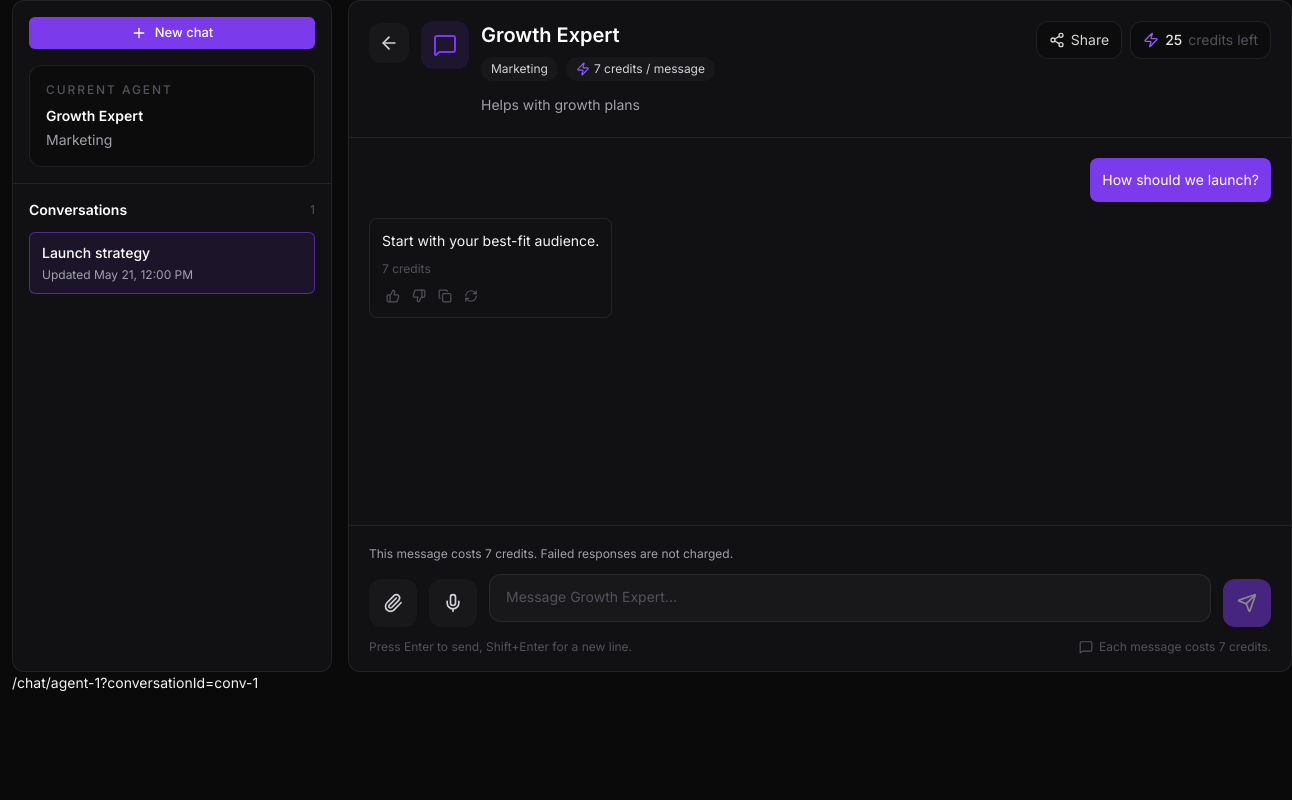
it: ChatPage › treats AbortError from stopping a stream as an intentional cancellation without showing an error
Step 1. Type "Stop this" into the text box → [850, 598], box [489,574,1211,622]
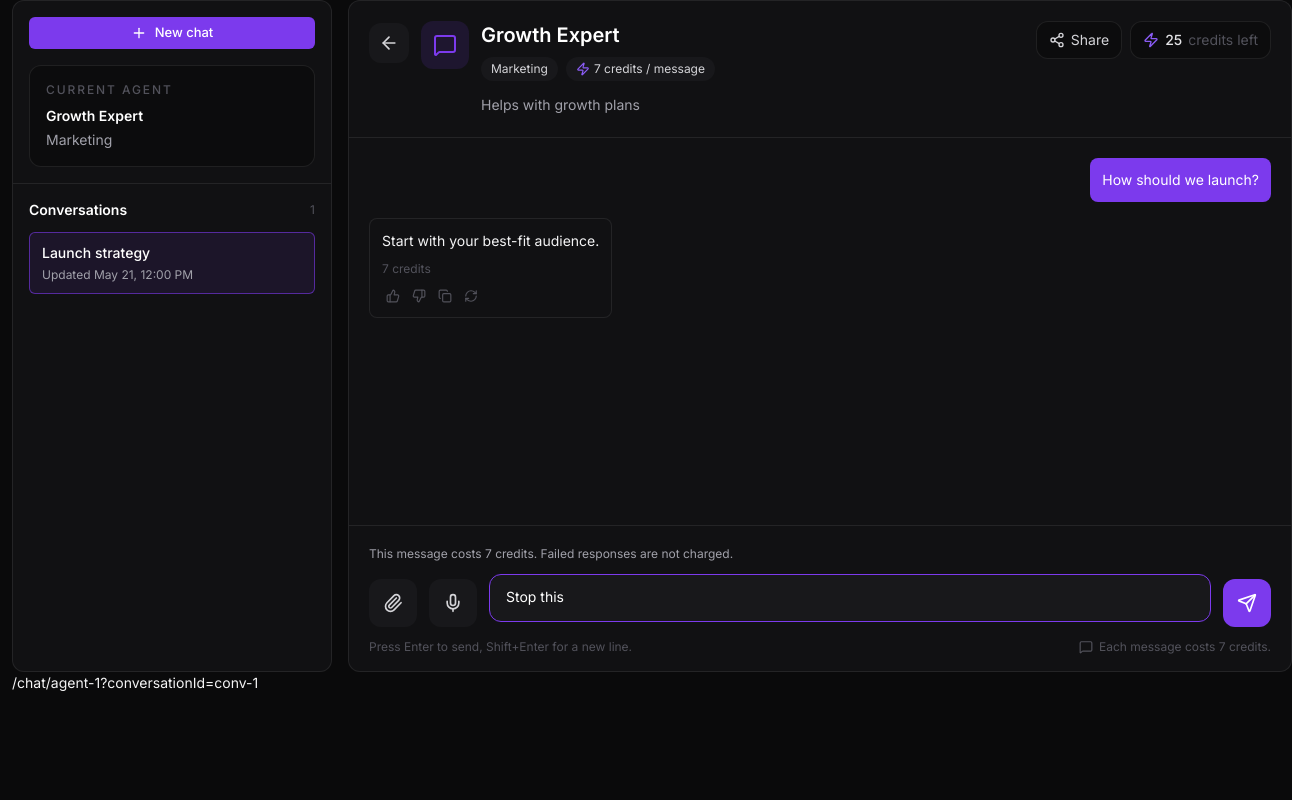
Step 2. Press Enter
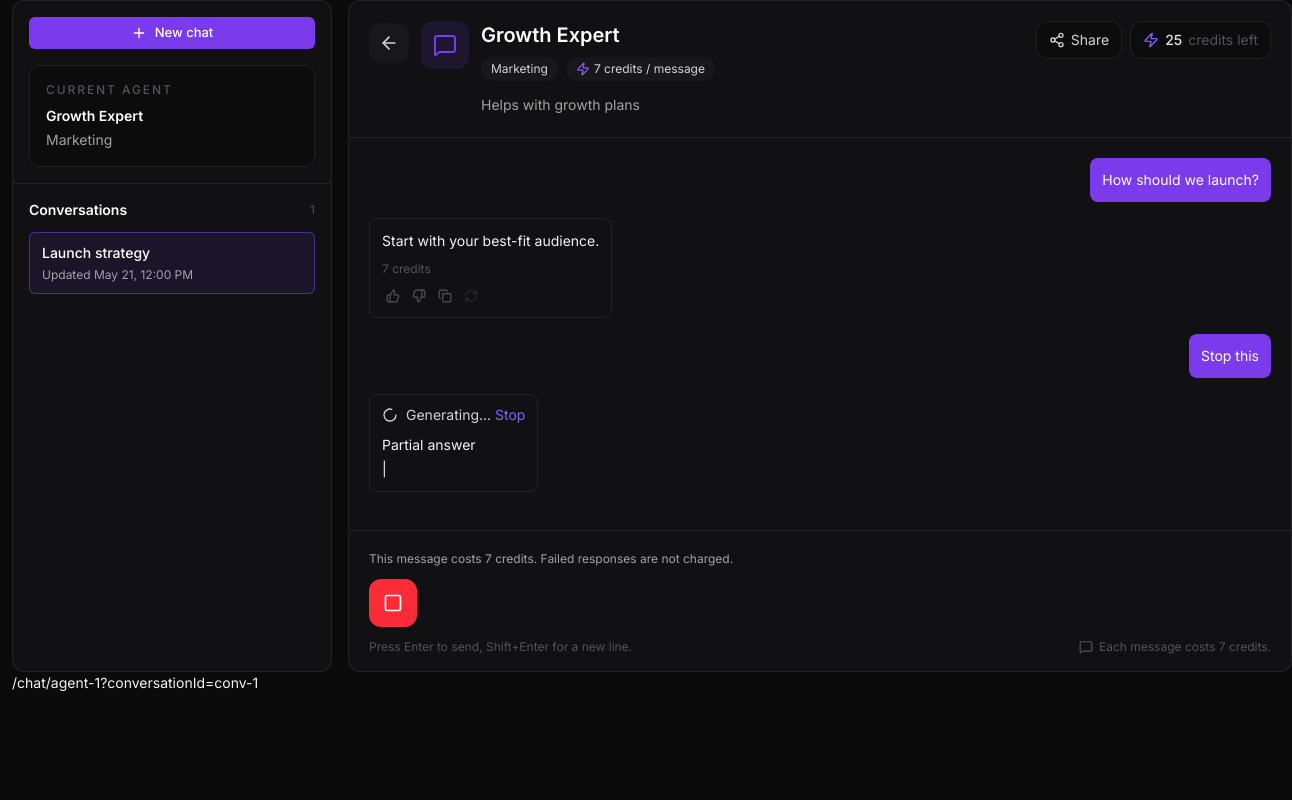
Expected: the text "Generating..." is shown, [406,406,495,423]
Step 3. Click the button named "Stop generating" → [393, 603], box [369,579,417,627]
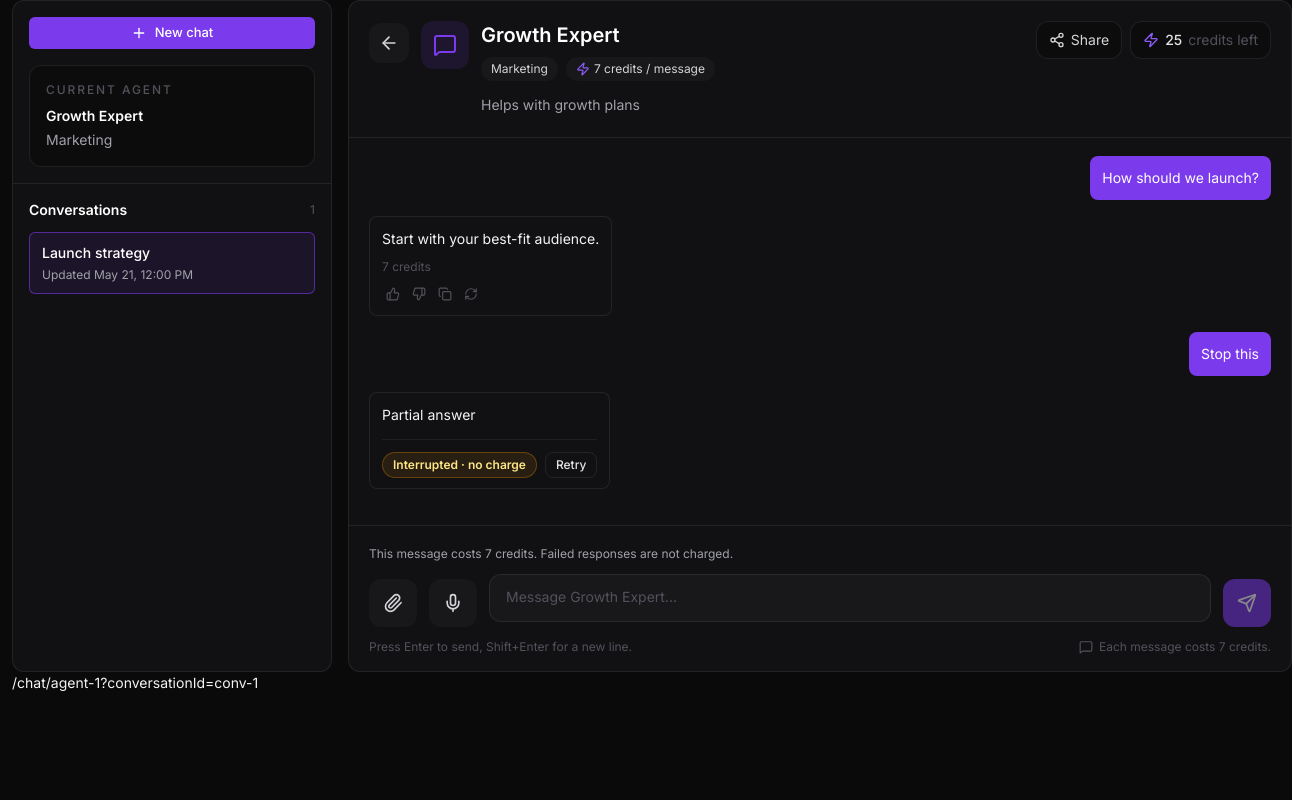
Expected: the text "Partial answer" is shown, [382,406,476,423]
Expected: the text "Interrupted · no charge" is shown, [382,452,537,478]
Expected: the button with aria-label "Retry message" is shown, [545,452,598,478]
